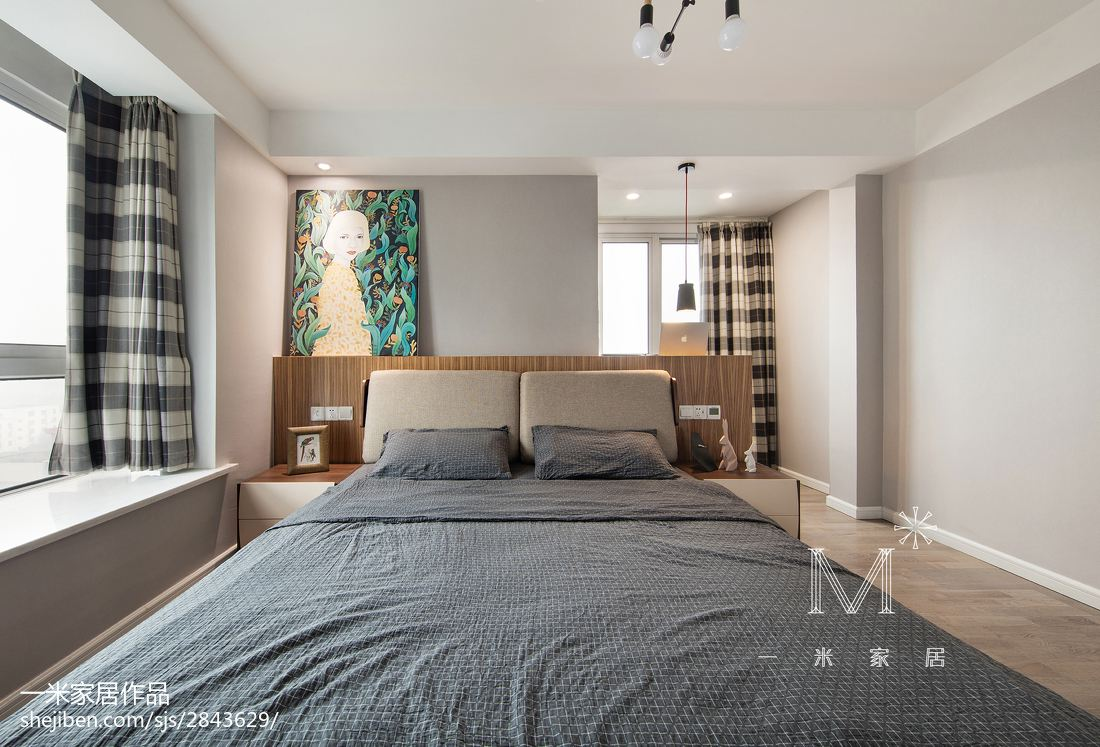床: (74, 468, 1069, 747)
枕头: (518, 420, 674, 486), (363, 426, 511, 484)
灯: (623, 6, 749, 68), (665, 161, 699, 330), (710, 187, 734, 208), (617, 188, 643, 207), (308, 159, 332, 178)
